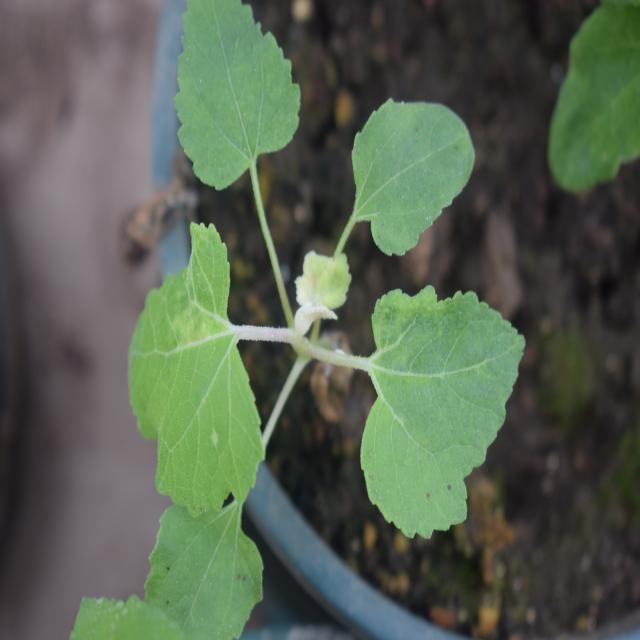cocklebur: (110, 2, 522, 575)
